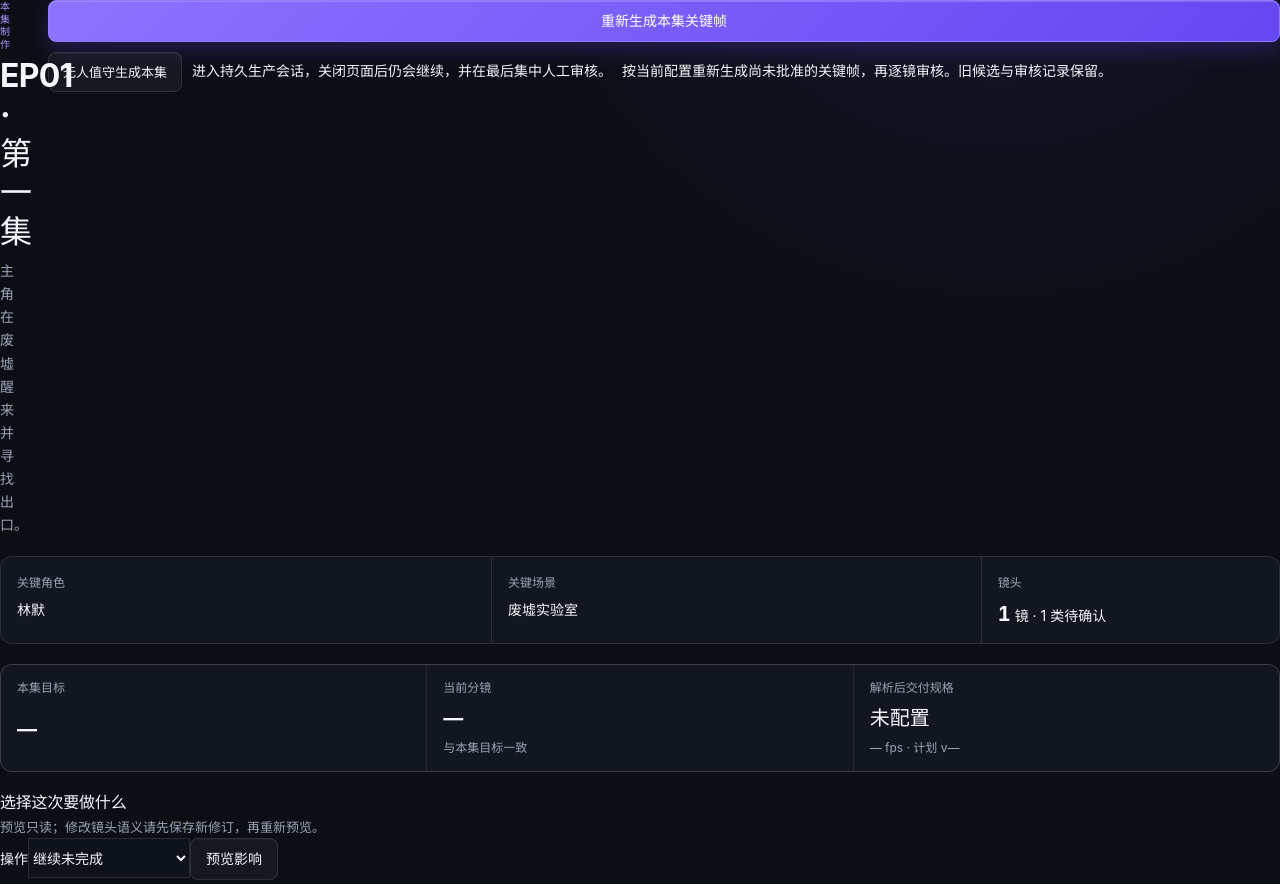
Scenario: EpisodeProductionWorkspace › allows a new run for unapproved keyframes after the old run ends without approving old candidates
The image size is (1280, 884).
Expected: the text "按当前配置重新生成尚未批准的关键帧，再逐镜审核。旧候选与审核记录保留。" is shown, [622,60,1112,83]
Click the button "重新生成本集关键帧": (664, 21) [48,0,1279,42]
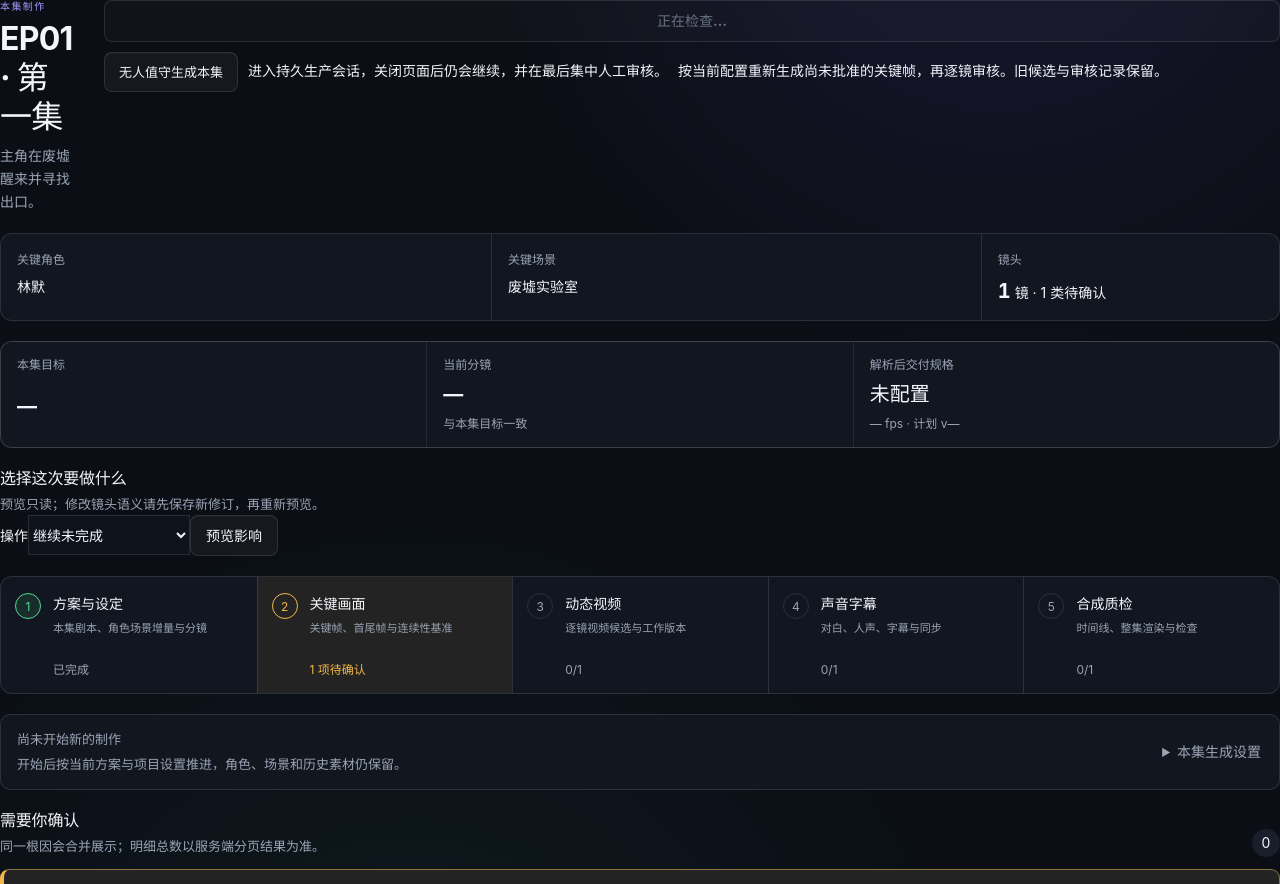
Expected: the button "正在检查…" is disabled, [104,0,1279,42]
